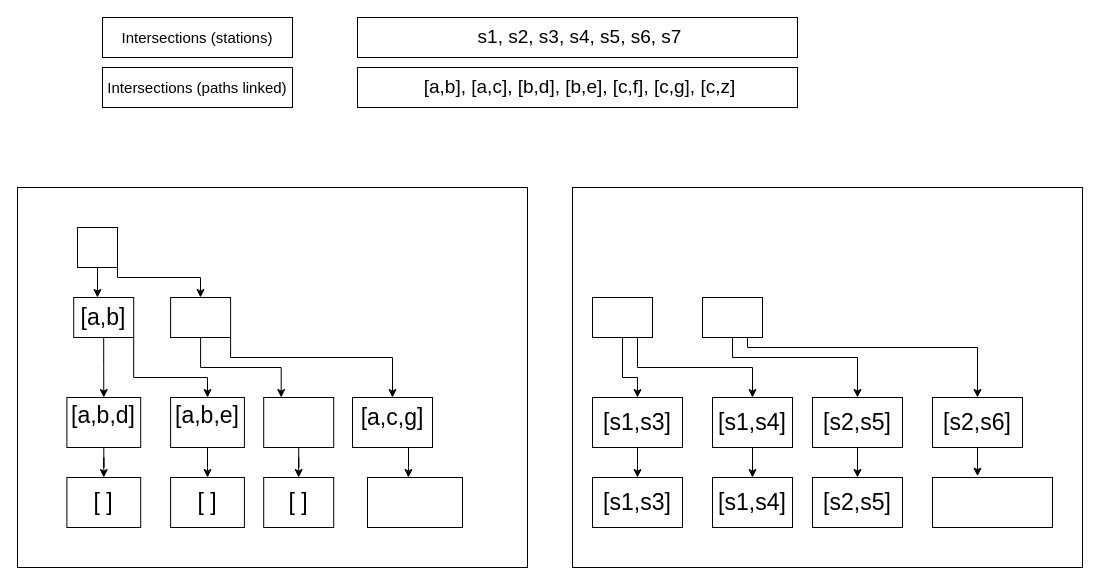
This 1100x585 diagram has some shape labels left out. The centre of each missing label's shape, as x and y in pixels:
"[a,c,f]" goes at point 298,422.
"[a,c,g,z]" goes at point 414,502.
"[a,c]" goes at point 200,317.
"[a]" goes at point 97,247.
"[s1]" goes at point 622,317.
"[s2,s6,s7]" goes at point 992,502.
"[s2]" goes at point 732,317.
